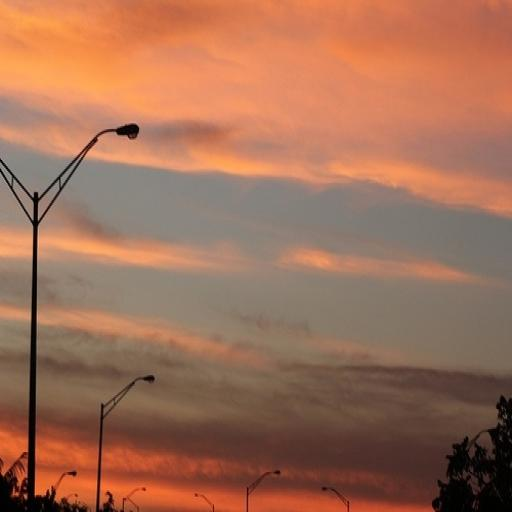off street light: (0, 93, 143, 358), (97, 364, 164, 512)
